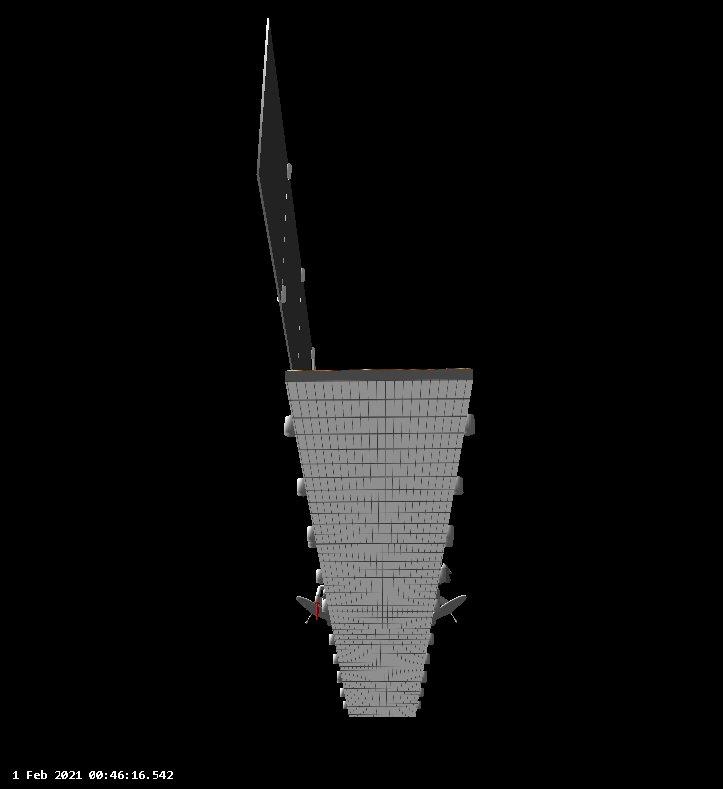antenna: (289, 585, 332, 632), (437, 590, 469, 630)
solar: (278, 367, 479, 722), (255, 10, 321, 373)
